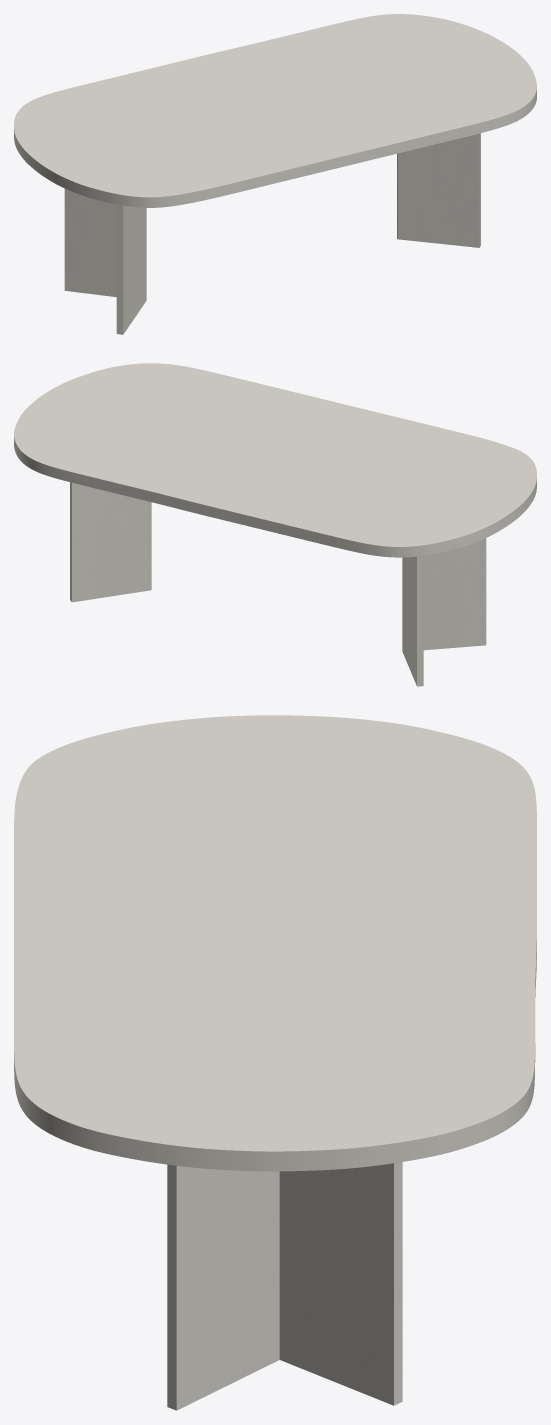
File: pale_oval_standard_valleyv.glb
3 renders of one model, top to bottom at view 1: azimuth 30°, elevation 25°; view 2: azimuth 150°, elevation 25°; view 3: azimuth 270°, elevation 25°, orthographic. The views are drawn at different scales.
Parts seen in each view (by area): view 1: standard_oval, valleyv; view 2: standard_oval, valleyv; view 3: standard_oval, valleyv.
Boxes of the visible parts, <box> form: standard_oval: <box>14,14,536,207</box>; valleyv: <box>64,133,480,334</box>; standard_oval: <box>14,363,536,557</box>; valleyv: <box>70,482,486,686</box>; standard_oval: <box>14,715,536,1171</box>; valleyv: <box>167,1162,402,1410</box>.
Bounding box in the file's own units: 7.5 × 2.5 × 3.8.
1 material, 1 textured.
